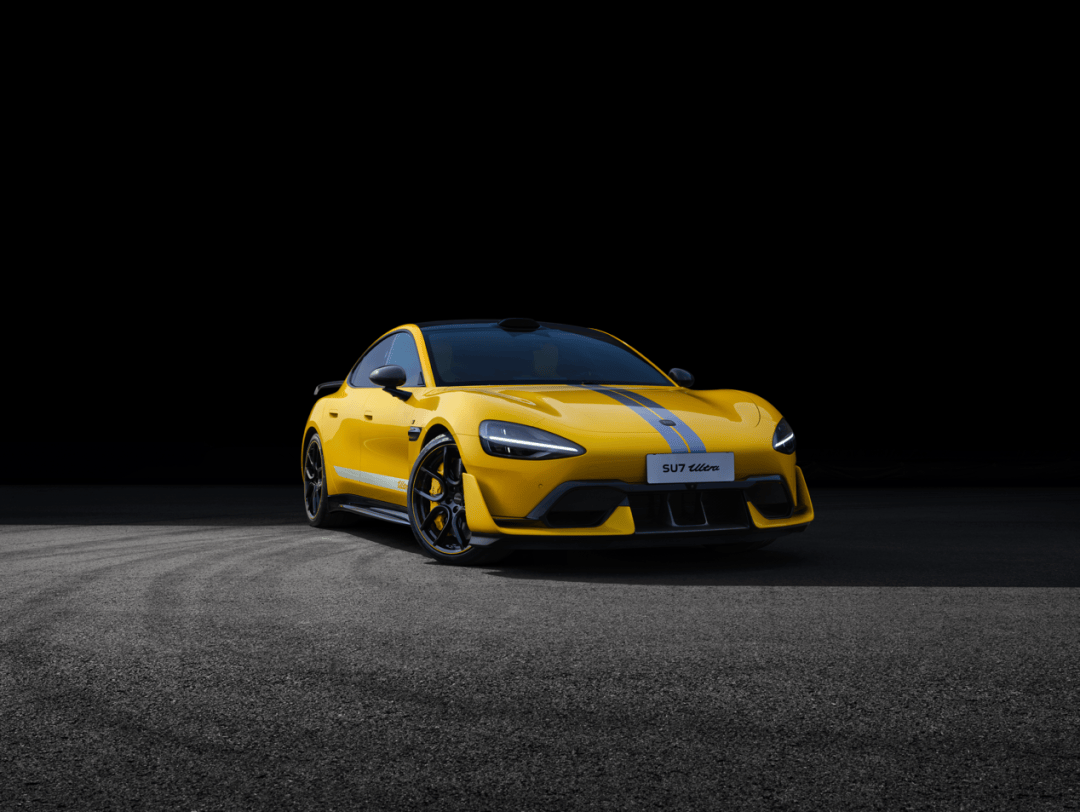su7: (289, 307, 824, 562)
